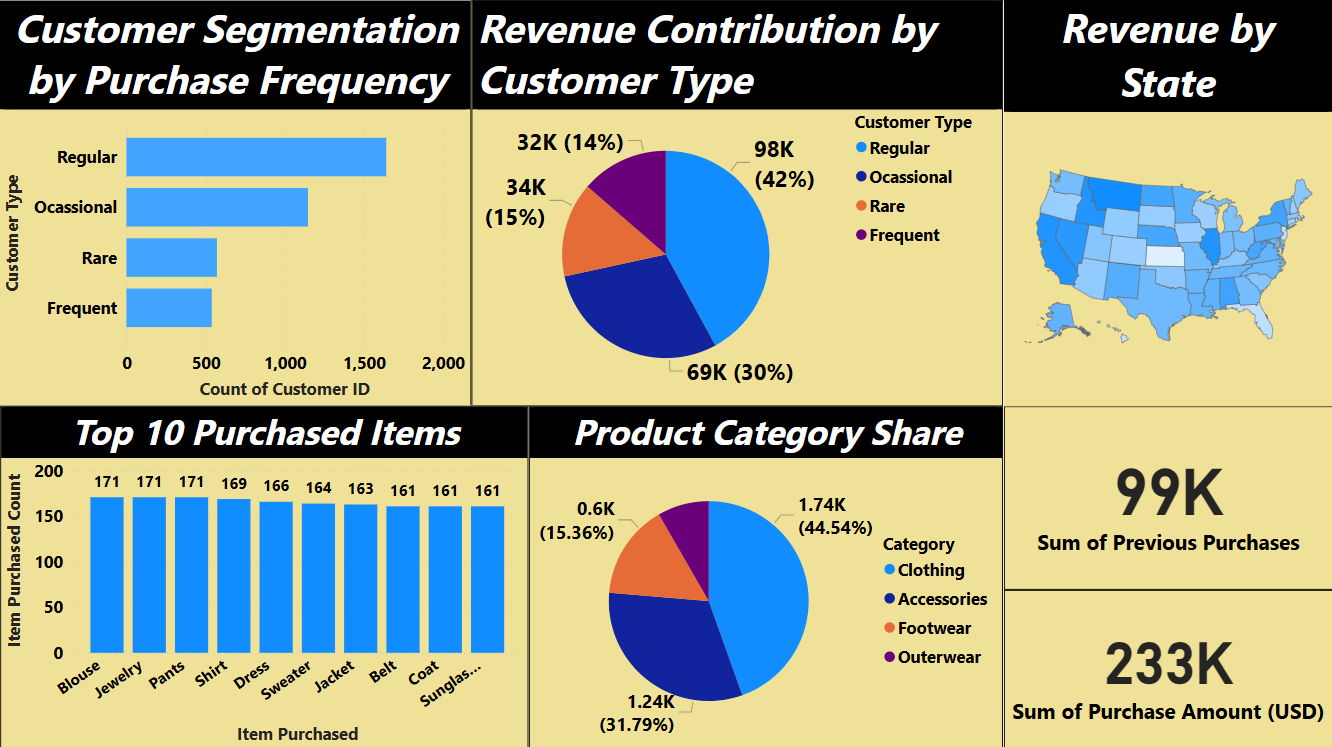

This screenshot's page, from the dashboard's own definition file:
{"tool":"powerbi","page":{"name":"Page 1","canvas":[1280,720],"ordinal":0},"visuals":[{"type":"barChart","title":"Customer Segmentation by Purchase Frequency","fields":{"Category":["cleaned_shopping_trends.Customer Type"],"Y":["CountNonNull(cleaned_shopping_trends.Customer ID)"]},"box":[0,0,453,389.5],"z":0},{"type":"pieChart","title":"Revenue Contribution by Customer Type","fields":{"Category":["cleaned_shopping_trends.Customer Type"],"Y":["Sum(cleaned_shopping_trends.Purchase Amount (USD))"]},"box":[453,0,509.4,389.5],"z":1000},{"type":"columnChart","title":"Top 10 Purchased Items","fields":{"Category":["cleaned_shopping_trends.Item Purchased"],"Y":["CountNonNull(cleaned_shopping_trends.Item Purchased)"]},"box":[1.4,389.5,506.4,330.4],"z":2000},{"type":"pieChart","title":"Product Category Share","fields":{"Category":["cleaned_shopping_trends.Category"],"Y":["CountNonNull(cleaned_shopping_trends.Item Purchased)"]},"box":[507.9,389.5,454.5,330.4],"z":3000},{"type":"card","fields":{"Values":["Sum(cleaned_shopping_trends.Purchase Amount (USD))"]},"box":[963.8,565.6,316,154.4],"z":4000},{"type":"card","fields":{"Values":["Sum(cleaned_shopping_trends.Previous Purchases)"]},"box":[963.8,389.5,316,176],"z":5000},{"type":"shapeMap","title":"Revenue by State","fields":{"Category":["cleaned_shopping_trends.Location"],"Value":["Sum(cleaned_shopping_trends.Purchase Amount (USD))"]},"box":[963.8,0,316,389.5],"z":6000}]}

Visuals, with their boxes in screenshot pixels (x1, y1, x2, y2), scaled from the page's 1280x720 canvas onto the 1332x747 screenshot:
"Customer Segmentation by Purchase Frequency" barChart: bbox=[0, 0, 471, 404]
"Revenue Contribution by Customer Type" pieChart: bbox=[471, 0, 1001, 404]
"Top 10 Purchased Items" columnChart: bbox=[1, 404, 528, 746]
"Product Category Share" pieChart: bbox=[529, 404, 1001, 746]
card - Sum(cleaned_shopping_trends.Purchase Amount (USD)): bbox=[1003, 587, 1331, 746]
card - Sum(cleaned_shopping_trends.Previous Purchases): bbox=[1003, 404, 1331, 587]
"Revenue by State" shapeMap: bbox=[1003, 0, 1331, 404]
